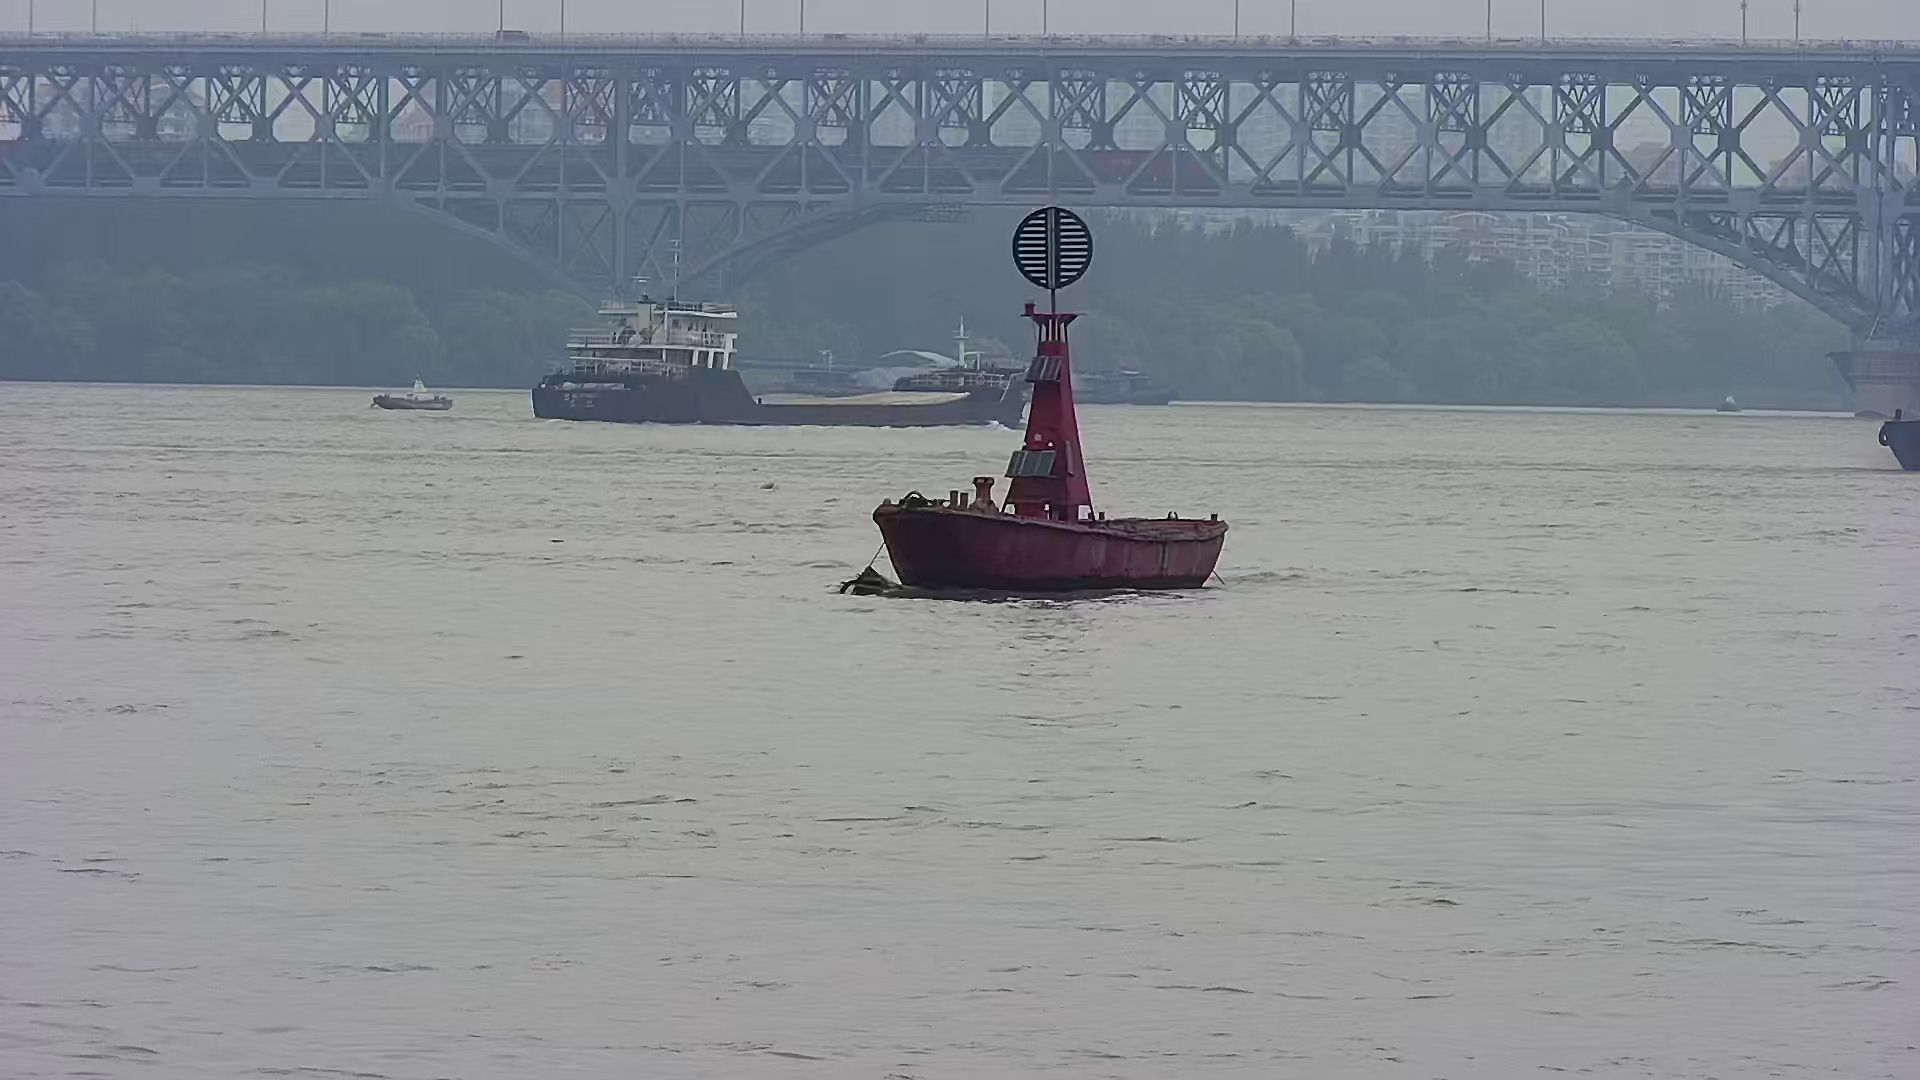boat: (851, 198, 1232, 605), (364, 369, 469, 419), (1705, 384, 1750, 421)
bridge: (7, 22, 1920, 390)
ship: (518, 233, 1034, 425), (785, 342, 1185, 411)
